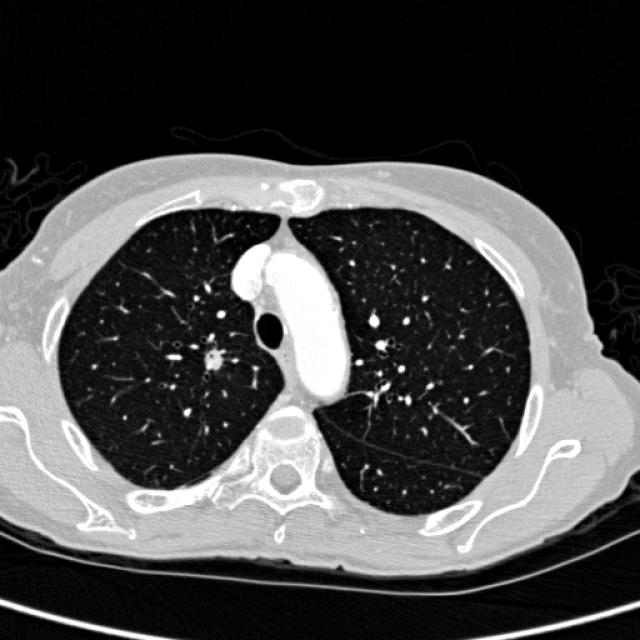nodule: (190, 336, 235, 382)
